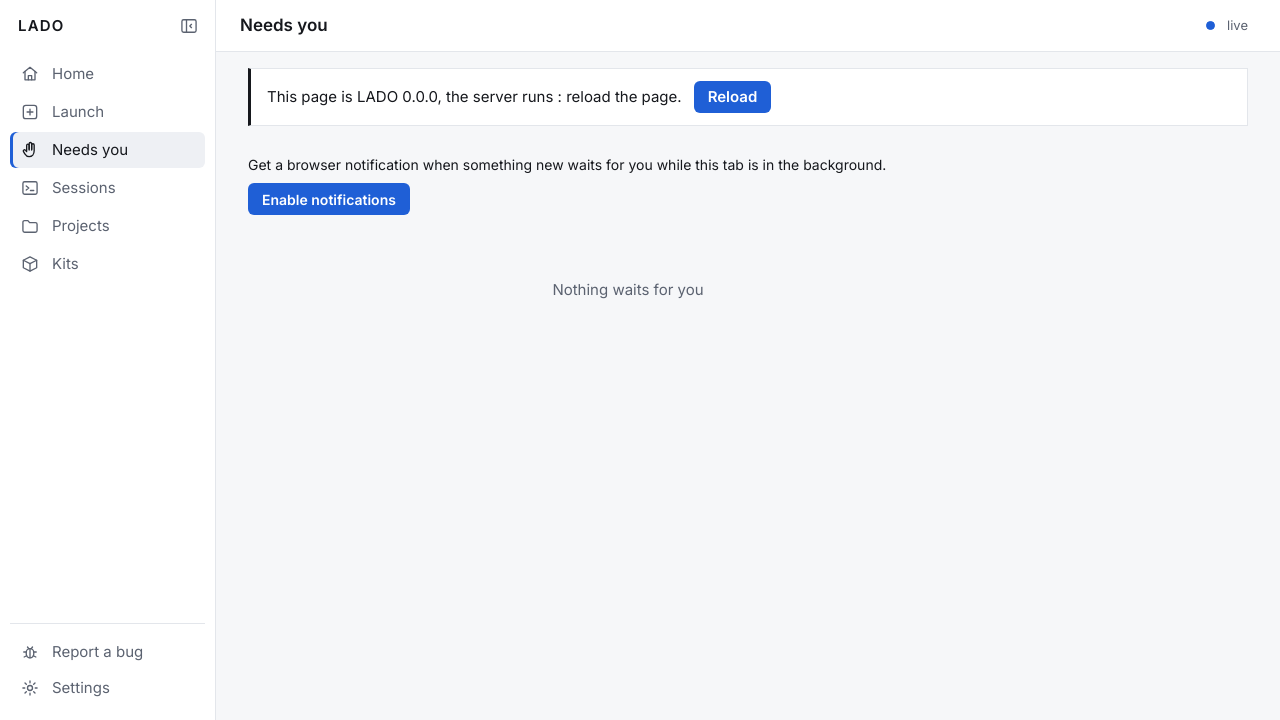
it: notifications › Enable notifications on Needs you asks the browser and turns them on when allowed
Click the button "Enable notifications".
click(329, 199)  # box [248,183,410,215]
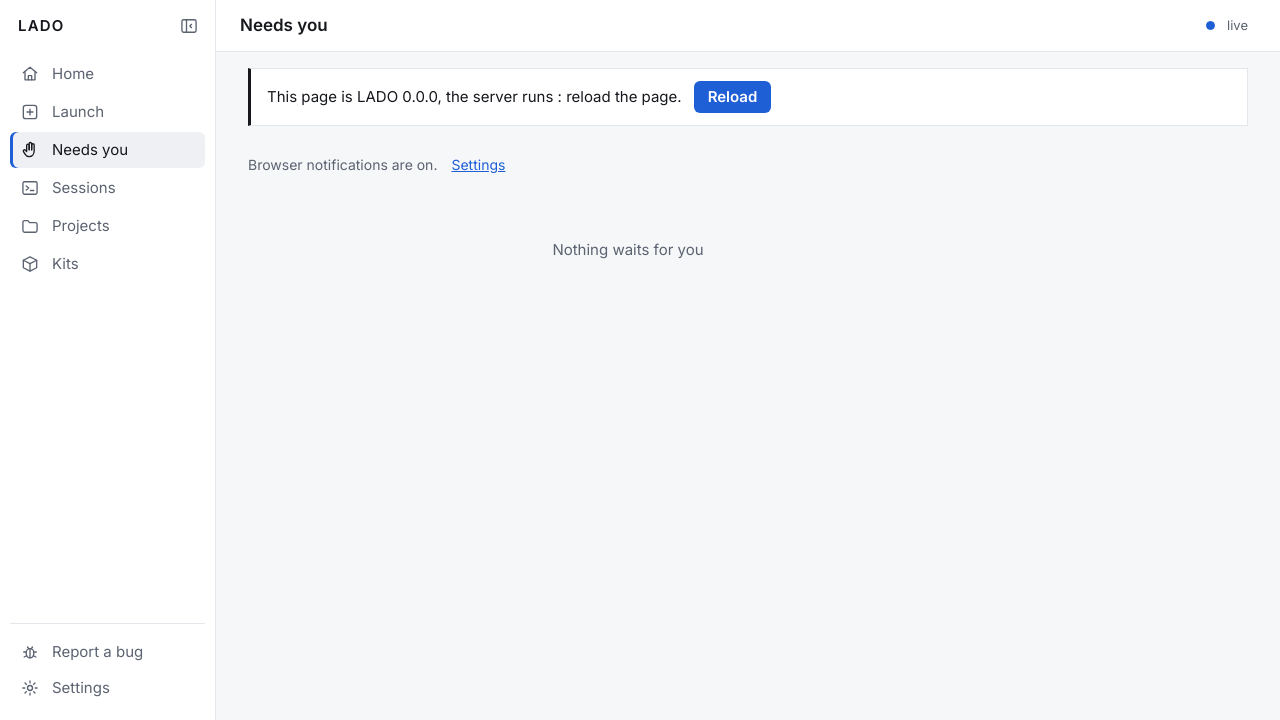
Expected: the text "Browser notifications are on. Settings" is shown, [248,156,505,173]
